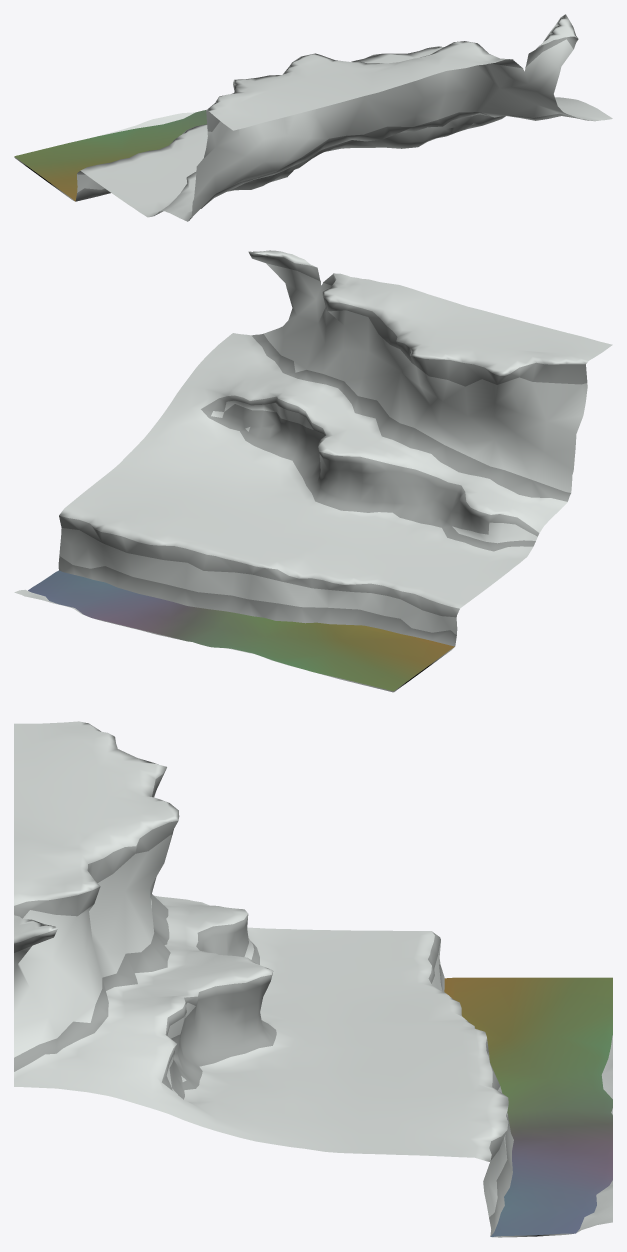
3 renders of one model, top to bottom at view 1: azimuth 30°, elevation 25°; view 2: azimuth 150°, elevation 25°; view 3: azimuth 270°, elevation 25°, orthographic. The views are drawn at different scales.
Parts seen in each view (by area): view 1: G:\FFXIV-MapTools\exports\r2f1\bg\ex1\01_roc_r2\fld\r2f1\bgp (×4); view 2: G:\FFXIV-MapTools\exports\r2f1\bg\ex1\01_roc_r2\fld\r2f1\bgp (×4); view 3: G:\FFXIV-MapTools\exports\r2f1\bg\ex1\01_roc_r2\fld\r2f1\bgp (×4).
Part boxes in pixels (x1=…): G:\FFXIV-MapTools\exports\r2f1\bg\ex1\01_roc_r2\fld\r2f1\bgp (×4): x1=14, y1=14, x2=612, y2=221; G:\FFXIV-MapTools\exports\r2f1\bg\ex1\01_roc_r2\fld\r2f1\bgp (×4): x1=14, y1=250, x2=612, y2=691; G:\FFXIV-MapTools\exports\r2f1\bg\ex1\01_roc_r2\fld\r2f1\bgp (×4): x1=14, y1=721, x2=612, y2=1236.
Size of the model in its own units: 128 by 67.88 by 128.
